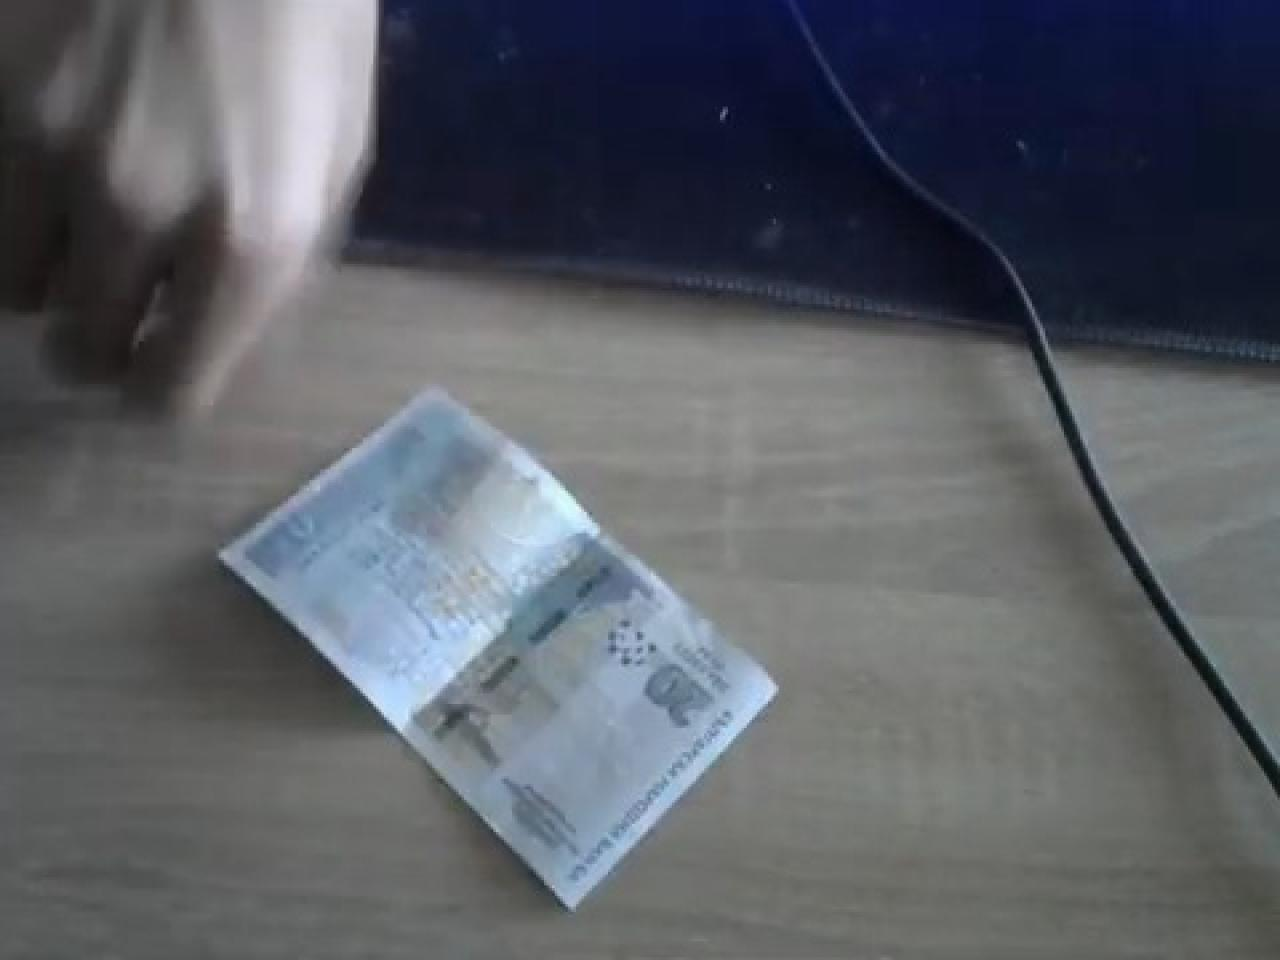20leva: (214, 381, 781, 912)
